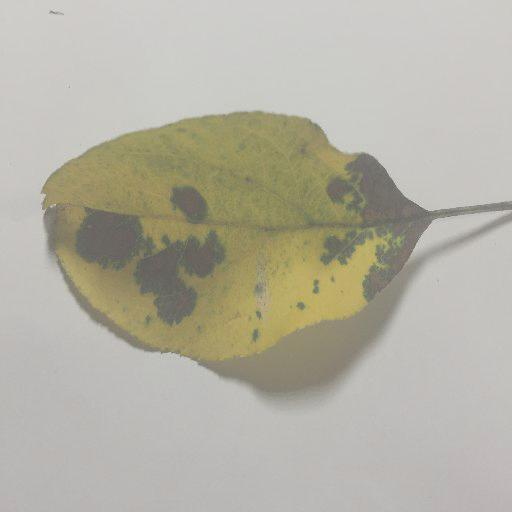Brown_Spot: (70, 162, 235, 349), (325, 146, 421, 306)
